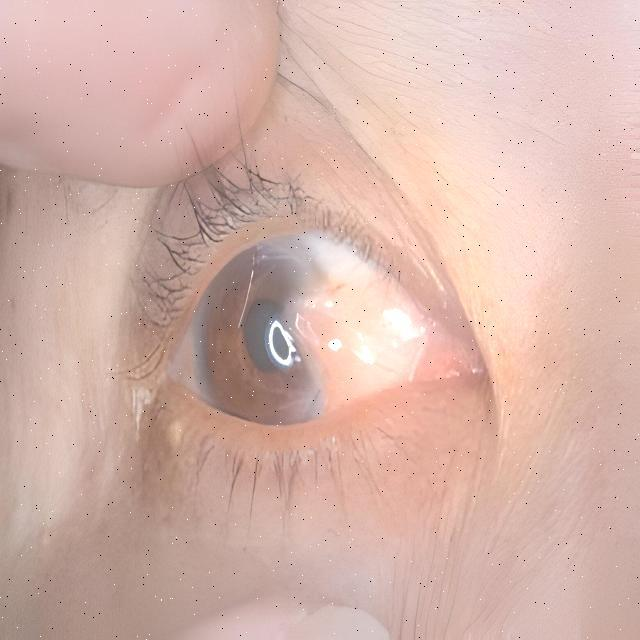Pterygium: (286, 262, 437, 420)
